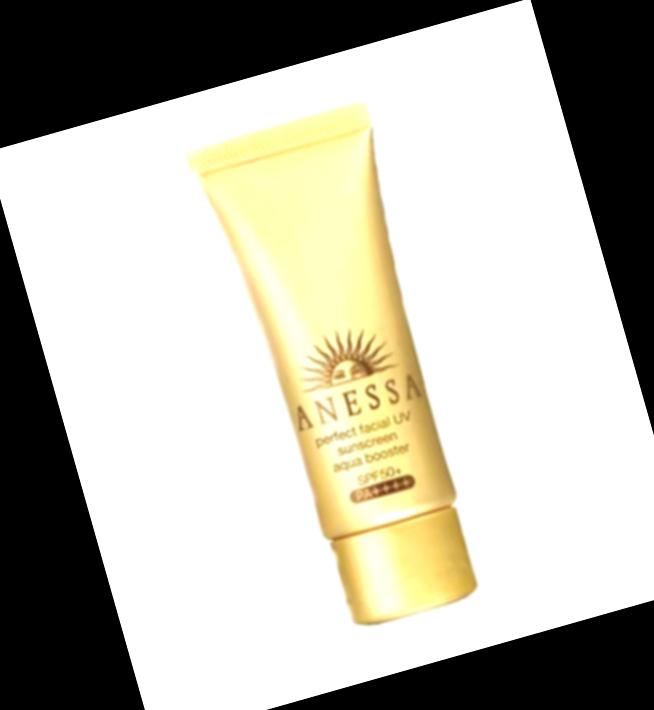cosmetic: (180, 100, 505, 641)
